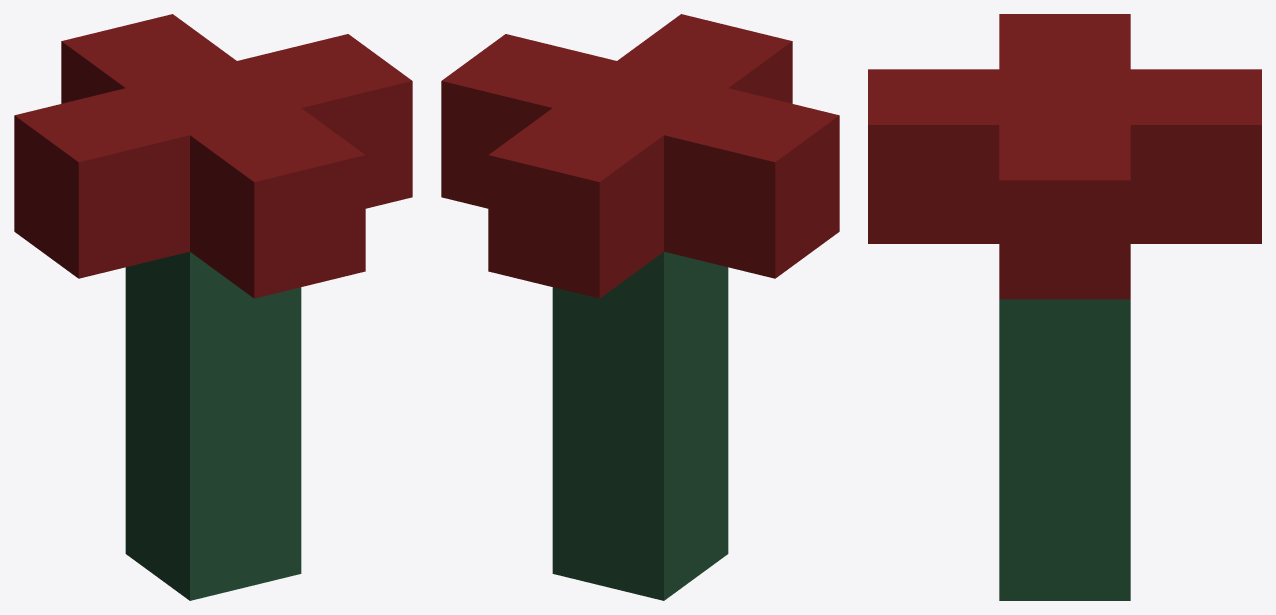
File: church-73-flowerred.obj
The picture shows the model from 3 angles, left to right: view 1: azimuth 30°, elevation 25°; view 2: azimuth 150°, elevation 25°; view 3: azimuth 270°, elevation 25°; orthographic projection. The views are drawn at different scales.
Parts seen in each view (by area): view 1: flowerred; view 2: flowerred; view 3: flowerred.
Boxes of the visible parts, x1,y1,x2,y2 form: flowerred: (14, 14, 412, 600); flowerred: (441, 14, 839, 600); flowerred: (868, 14, 1261, 600).
Size of the model in its own units: 0.3 by 0.4 by 0.3.
Materials: 1 (1 with a texture image).
